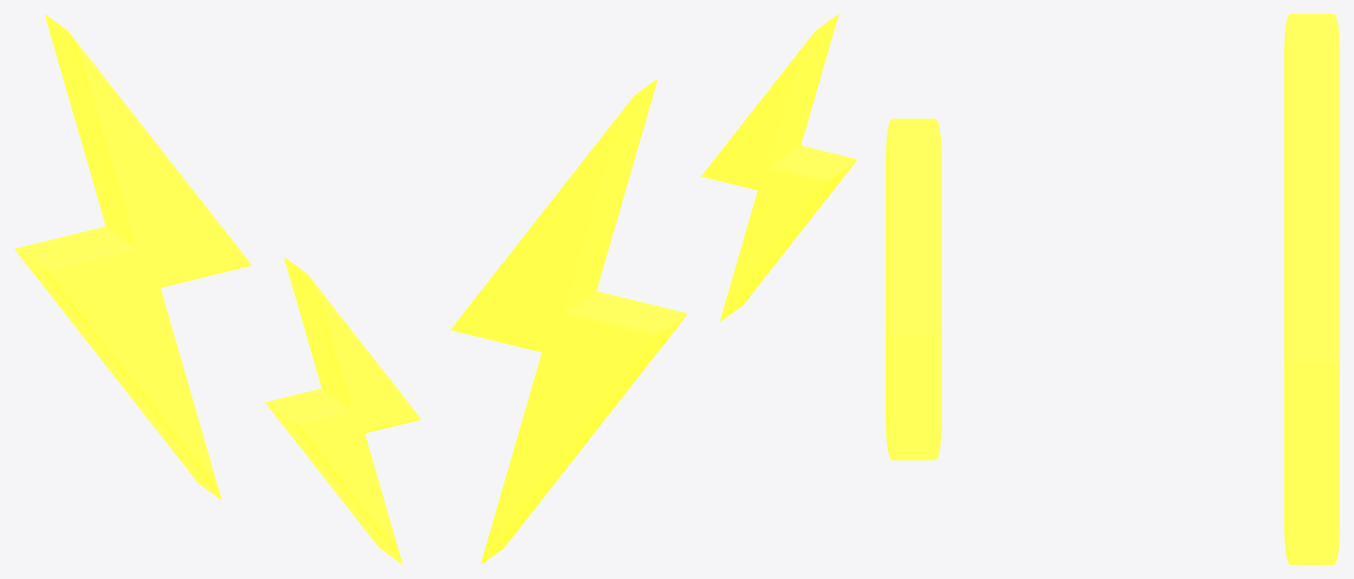
File: FG_Bolt.fbx
3 views of the same model, side by side, from view 1: azimuth 30°, elevation 25°; view 2: azimuth 150°, elevation 25°; view 3: azimuth 270°, elevation 25° (orthographic). The views are drawn at different scales.
Parts seen in each view (by area): view 1: FG_Bolt; view 2: FG_Bolt; view 3: FG_Bolt.
Part boxes in pixels (bbox=[...]): FG_Bolt: bbox=[14, 14, 421, 564]; FG_Bolt: bbox=[450, 14, 857, 564]; FG_Bolt: bbox=[886, 14, 1339, 564].
Size of the model in its own units: 1.86 by 4.2 by 3.6.
